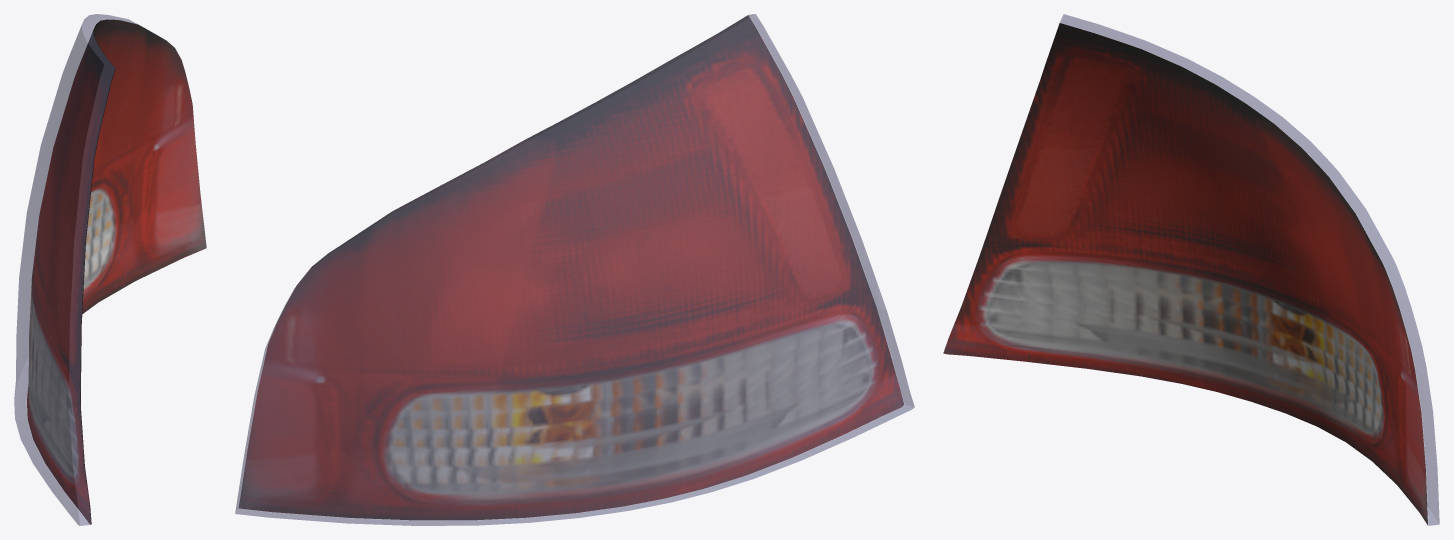
The picture shows the model from 3 angles, left to right: view 1: azimuth 30°, elevation 25°; view 2: azimuth 150°, elevation 25°; view 3: azimuth 270°, elevation 25°; orthographic projection. The views are drawn at different scales.
Parts seen in each view (by area): view 1: Z176_541C_L_1_N_Z176_541C_L, Z176_541C_L_Z176_541C_L_2_DTaSI; view 2: Z176_541C_L_Z176_541C_L_2_DTaSI, Z176_541C_L_1_N_Z176_541C_L; view 3: Z176_541C_L_1_N_Z176_541C_L, Z176_541C_L_Z176_541C_L_2_DTaSI.
Part boxes in pixels (x1,y1,x2,y2): Z176_541C_L_1_N_Z176_541C_L: [27, 19, 206, 524]; Z176_541C_L_Z176_541C_L_2_DTaSI: [14, 14, 136, 525]; Z176_541C_L_Z176_541C_L_2_DTaSI: [235, 14, 914, 525]; Z176_541C_L_1_N_Z176_541C_L: [238, 15, 903, 520]; Z176_541C_L_1_N_Z176_541C_L: [943, 23, 1427, 525]; Z176_541C_L_Z176_541C_L_2_DTaSI: [944, 14, 1439, 525].
Size of the model in its own units: 29.19 by 29.04 by 34.7.
